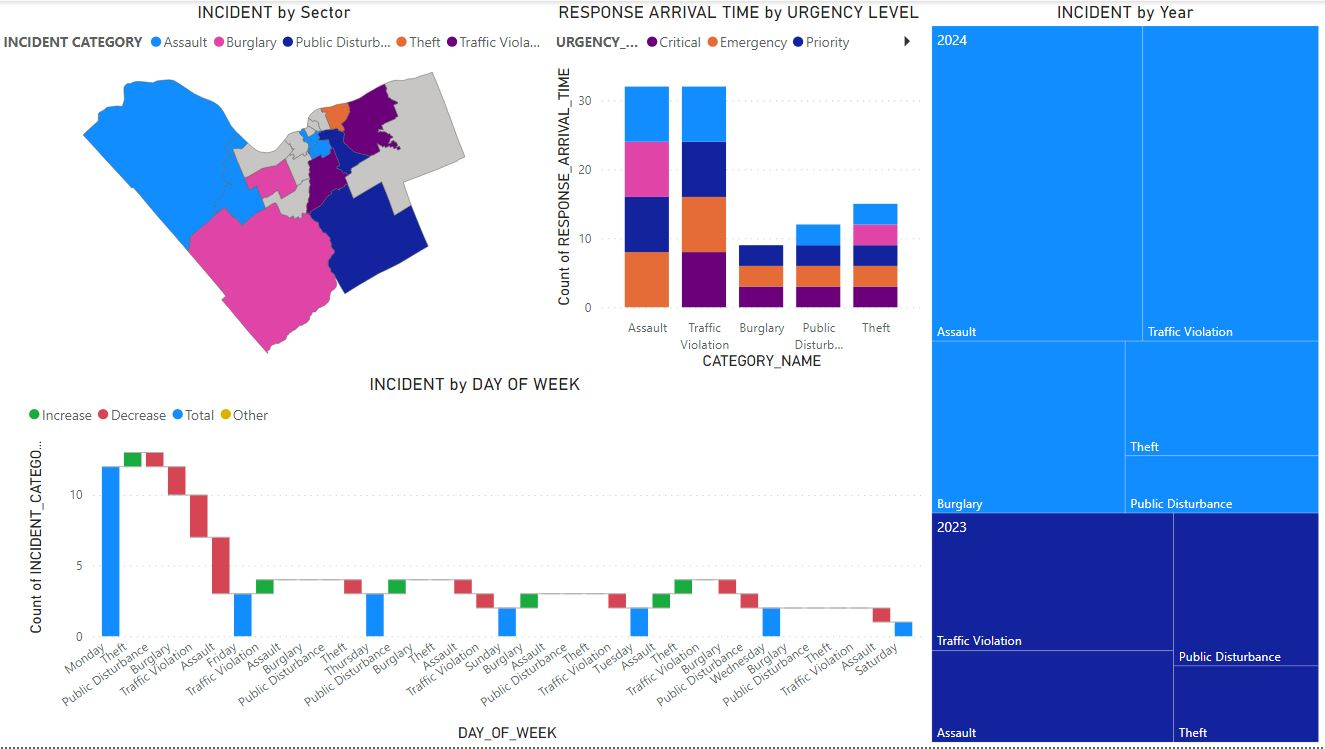

The dashboard page shown, as its layout file describes it:
{"tool":"powerbi","page":{"name":"Incident management","canvas":[1280,720],"ordinal":0},"visuals":[{"type":"waterfallChart","title":"INCIDENT by DAY OF WEEK","fields":{"Category":["DIM_DATE_DATA_TABLE.DAY_OF_WEEK"],"Y":["CountNonNull(FACT_INCIDENT_MANAGEMENT_DATA_TABLE.INCIDENT_CATEGORY_ID)"],"Breakdown":["DIM_INCIDENT_CATEGORY_DATA_TABLE.CATEGORY_NAME"]},"box":[24.7,359.8,871.8,360.2],"z":0},{"type":"shapeMap","title":"INCIDENT by Sector ","fields":{"Value":["CountNonNull(FACT_INCIDENT_MANAGEMENT_DATA_TABLE.INCIDENT_ID)"],"Category":["DIM_LOCATION_DATA_TABLE.Sector Name"],"Series":["DIM_INCIDENT_CATEGORY_DATA_TABLE.CATEGORY_NAME"]},"box":[0,0,532.9,360.2],"z":1000},{"type":"columnChart","title":"RESPONSE ARRIVAL TIME by URGENCY LEVEL","fields":{"Category":["DIM_INCIDENT_CATEGORY_DATA_TABLE.CATEGORY_NAME"],"Y":["CountNonNull(FACT_INCIDENT_MANAGEMENT_DATA_TABLE.RESPONSE_ARRIVAL_TIME)"],"Series":["DIM_URGENCY_LEVEL_DATA_TABLE.URGENCY_LEVEL"]},"box":[532.9,0,363.5,360.2],"z":2000},{"type":"treemap","title":"INCIDENT by Year","fields":{"Values":["CountNonNull(FACT_INCIDENT_MANAGEMENT_DATA_TABLE.INCIDENT_ID)"],"Details":["DIM_INCIDENT_CATEGORY_DATA_TABLE.CATEGORY_NAME"],"Group":["DIM_DATE_DATA_TABLE.YEAR"]},"box":[896.5,0,383.3,720.5],"z":3000}]}

Visuals, with their boxes in screenshot pixels (x1, y1, x2, y2), scaled from the page's 1280x720 canvas onto the 1325x749 screenshot:
"INCIDENT by DAY OF WEEK" waterfallChart: (left=26, top=374, right=928, bottom=748)
"INCIDENT by Sector " shapeMap: (left=0, top=0, right=552, bottom=375)
"RESPONSE ARRIVAL TIME by URGENCY LEVEL" columnChart: (left=552, top=0, right=928, bottom=375)
"INCIDENT by Year" treemap: (left=928, top=0, right=1324, bottom=748)
